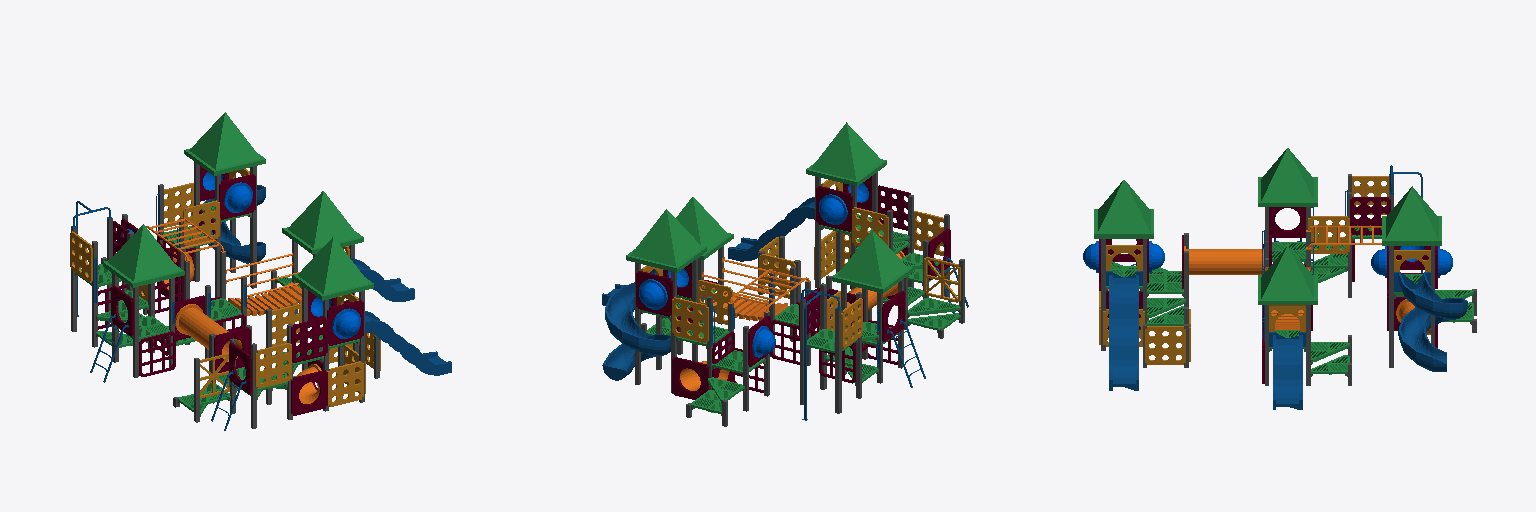
File: demo2.obj
3 views of the same model, side by side, from view 1: azimuth 30°, elevation 25°; view 2: azimuth 150°, elevation 25°; view 3: azimuth 270°, elevation 25° (orthographic).
Parts seen in each view (by area): view 1: Mesh409 hat_quarter23 Play_Grow_Roof3 Play_Grow_Configuration___, Mesh83 hat_quarter Play_Grow_Roof1 Play_Grow_Configuration___For, Mesh479 hat_quarter34 Play_Grow_Roof4 Play_Grow_Configuration___, Mesh114 G_3ftSquarewith9Holes2 Wall_Section1 Play_Grow_Configura, Mesh113 G_3ftSquarewith9Holes1 Wall_Section_4_1 Play_Grow_Config, Mesh136 G_3ftSquarewith9Holes6 Wall_Section_7_1 Play_Grow_Config, Mesh301 hat_quarter1 Play_Grow_Roof2 Play_Grow_Configuration___F, Mesh511 G_3ftSqauresidewithmanhole_1_1 ElbowTube_2_1 Tube_Elbow_, Mesh502 G_3ftSquarewith9Holes12 Wall_Section_3_1 Play_Grow_Confi, Mesh98 TubeTube1 Tube_Span1 Play_Grow_Tube1 Play_Grow_Configurat, Mesh389 G_3ftSquarewith9Holes8 Wall_Section_13_1 Play_Grow_Confi, Mesh480 hat_quarter2_3 Play_Grow_Roof4 Play_Grow_Configuration__ (+18 smaller); view 2: Mesh411 hat_quarter3_2 Play_Grow_Roof3 Play_Grow_Configuration__, Mesh85 hat_quarter3 Play_Grow_Roof1 Play_Grow_Configuration___Fo, Mesh481 hat_quarter3_3 Play_Grow_Roof4 Play_Grow_Configuration__, Mesh501 G_3ftSquarewith9Holes11 Wall_Section_16_1 Play_Grow_Conf, Mesh523 G_3ftSqauresidewithmanhole_1_3 ElbowTube_3_1 Tube_Elbow_, Mesh133 G_3ftSquarewith9Holes3 Wall_Section_14_1 Play_Grow_Confi, Mesh303 hat_quarter3_1 Play_Grow_Roof2 Play_Grow_Configuration__, Mesh113 G_3ftSquarewith9Holes1 Wall_Section_4_1 Play_Grow_Config, Mesh389 G_3ftSquarewith9Holes8 Wall_Section_13_1 Play_Grow_Confi, Mesh132 G_3ftSquare4HoleGuard_1_1 Wall_Section_2_1 Play_Grow_Con, Mesh482 hat_quarter4_3 Play_Grow_Roof4 Play_Grow_Configuration__, Mesh86 hat_quarter4 Play_Grow_Roof1 Play_Grow_Configuration___Fo (+20 smaller); view 3: Mesh98 TubeTube1 Tube_Span1 Play_Grow_Tube1 Play_Grow_Configurat, Mesh134 G_3ftSquarewith9Holes4 Wall_Section_5_1 Play_Grow_Config, Mesh482 hat_quarter4_3 Play_Grow_Roof4 Play_Grow_Configuration__, Mesh86 hat_quarter4 Play_Grow_Roof1 Play_Grow_Configuration___Fo, Mesh410 hat_quarter2_2 Play_Grow_Roof3 Play_Grow_Configuration__, Mesh302 hat_quarter2_1 Play_Grow_Roof2 Play_Grow_Configuration__, Mesh84 hat_quarter2 Play_Grow_Roof1 Play_Grow_Configuration___Fo, Mesh390 G_3ftSquarewith9Holes9 Wall_Section_12_1 Play_Grow_Confi, Mesh480 hat_quarter2_3 Play_Grow_Roof4 Play_Grow_Configuration__, Mesh412 hat_quarter4_2 Play_Grow_Roof3 Play_Grow_Configuration__, Mesh304 hat_quarter4_1 Play_Grow_Roof2 Play_Grow_Configuration__, Mesh392 G_3ftSquarewith9Holes10 Wall_Section_15_1 Play_Grow_Conf (+3 smaller).
Part boxes in pixels (x1,y1,x2,y2): Mesh409 hat_quarter23 Play_Grow_Roof3 Play_Grow_Configuration___: (118, 224, 158, 287); Mesh83 hat_quarter Play_Grow_Roof1 Play_Grow_Configuration___For: (307, 237, 347, 300); Mesh479 hat_quarter34 Play_Grow_Roof4 Play_Grow_Configuration___: (199, 113, 239, 175); Mesh114 G_3ftSquarewith9Holes2 Wall_Section1 Play_Grow_Configura: (255, 343, 291, 388); Mesh113 G_3ftSquarewith9Holes1 Wall_Section_4_1 Play_Grow_Config: (291, 317, 327, 362); Mesh136 G_3ftSquarewith9Holes6 Wall_Section_7_1 Play_Grow_Config: (327, 361, 363, 406); Mesh301 hat_quarter1 Play_Grow_Roof2 Play_Grow_Configuration___F: (297, 191, 335, 254); Mesh511 G_3ftSqauresidewithmanhole_1_1 ElbowTube_2_1 Tube_Elbow_: (291, 370, 327, 415); Mesh502 G_3ftSquarewith9Holes12 Wall_Section_3_1 Play_Grow_Confi: (183, 200, 219, 245); Mesh98 TubeTube1 Tube_Span1 Play_Grow_Tube1 Play_Grow_Configurat: (179, 307, 228, 349); Mesh389 G_3ftSquarewith9Holes8 Wall_Section_13_1 Play_Grow_Confi: (70, 231, 92, 282); Mesh480 hat_quarter2_3 Play_Grow_Roof4 Play_Grow_Configuration__: (225, 112, 265, 169); Mesh411 hat_quarter3_2 Play_Grow_Roof3 Play_Grow_Configuration__: (857, 230, 897, 293); Mesh85 hat_quarter3 Play_Grow_Roof1 Play_Grow_Configuration___Fo: (832, 122, 871, 186); Mesh481 hat_quarter3_3 Play_Grow_Roof4 Play_Grow_Configuration__: (652, 209, 691, 272); Mesh501 G_3ftSquarewith9Holes11 Wall_Section_16_1 Play_Grow_Conf: (672, 297, 708, 342); Mesh523 G_3ftSqauresidewithmanhole_1_3 ElbowTube_3_1 Tube_Elbow_: (672, 357, 708, 399); Mesh133 G_3ftSquarewith9Holes3 Wall_Section_14_1 Play_Grow_Confi: (852, 207, 888, 246); Mesh303 hat_quarter3_1 Play_Grow_Roof2 Play_Grow_Configuration__: (685, 197, 718, 259); Mesh113 G_3ftSquarewith9Holes1 Wall_Section_4_1 Play_Grow_Config: (878, 185, 910, 230); Mesh389 G_3ftSquarewith9Holes8 Wall_Section_13_1 Play_Grow_Confi: (841, 298, 862, 348); Mesh132 G_3ftSquare4HoleGuard_1_1 Wall_Section_2_1 Play_Grow_Con: (924, 257, 960, 302); Mesh482 hat_quarter4_3 Play_Grow_Roof4 Play_Grow_Configuration__: (626, 210, 665, 266); Mesh86 hat_quarter4 Play_Grow_Roof1 Play_Grow_Configuration___Fo: (806, 124, 845, 179); Mesh98 TubeTube1 Tube_Span1 Play_Grow_Tube1 Play_Grow_Configurat: (1186, 249, 1263, 274); Mesh134 G_3ftSquarewith9Holes4 Wall_Section_5_1 Play_Grow_Config: (1145, 326, 1185, 364); Mesh482 hat_quarter4_3 Play_Grow_Roof4 Play_Grow_Configuration__: (1412, 187, 1441, 245); Mesh86 hat_quarter4 Play_Grow_Roof1 Play_Grow_Configuration___Fo: (1124, 180, 1153, 238); Mesh410 hat_quarter2_2 Play_Grow_Roof3 Play_Grow_Configuration__: (1258, 148, 1287, 206); Mesh302 hat_quarter2_1 Play_Grow_Roof2 Play_Grow_Configuration__: (1258, 246, 1287, 304); Mesh84 hat_quarter2 Play_Grow_Roof1 Play_Grow_Configuration___Fo: (1094, 180, 1123, 238); Mesh390 G_3ftSquarewith9Holes9 Wall_Section_12_1 Play_Grow_Confi: (1350, 197, 1390, 234); Mesh480 hat_quarter2_3 Play_Grow_Roof4 Play_Grow_Configuration__: (1382, 187, 1411, 245); Mesh412 hat_quarter4_2 Play_Grow_Roof3 Play_Grow_Configuration__: (1288, 149, 1317, 206); Mesh304 hat_quarter4_1 Play_Grow_Roof2 Play_Grow_Configuration__: (1288, 247, 1317, 304); Mesh392 G_3ftSquarewith9Holes10 Wall_Section_15_1 Play_Grow_Conf: (1308, 216, 1349, 253).
Size of the model in its own units: 7896 by 4238 by 8673.